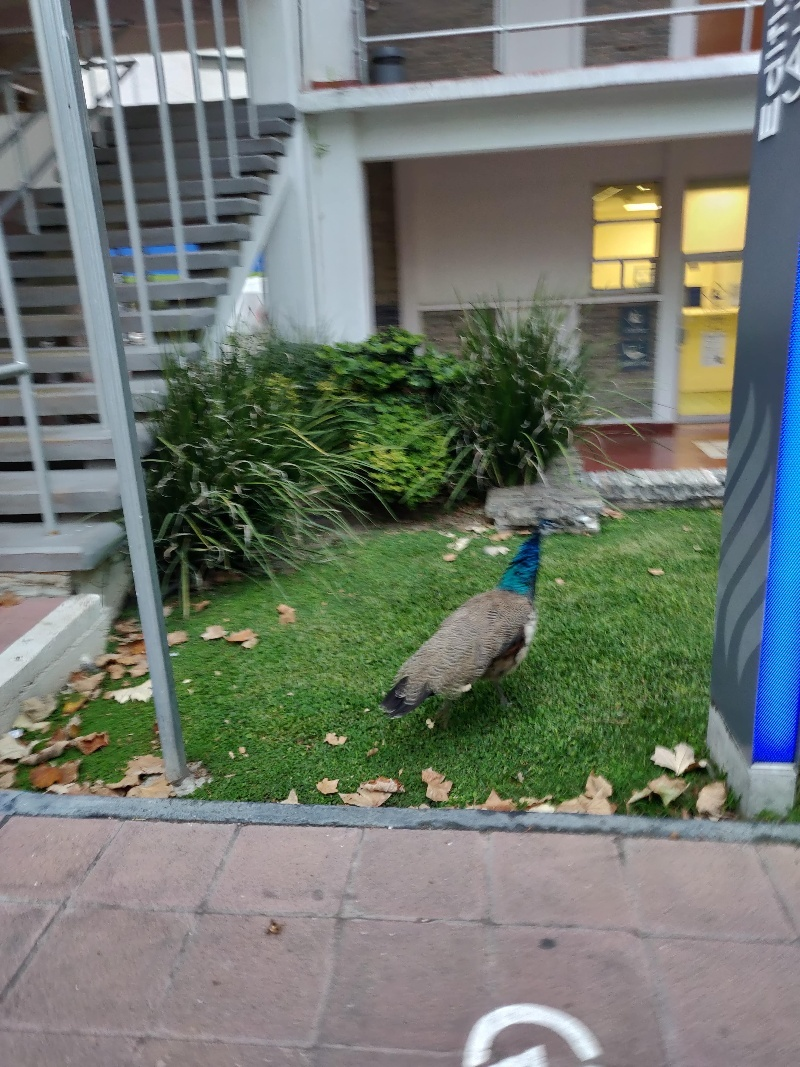pavoreal: (431, 520, 553, 695)
